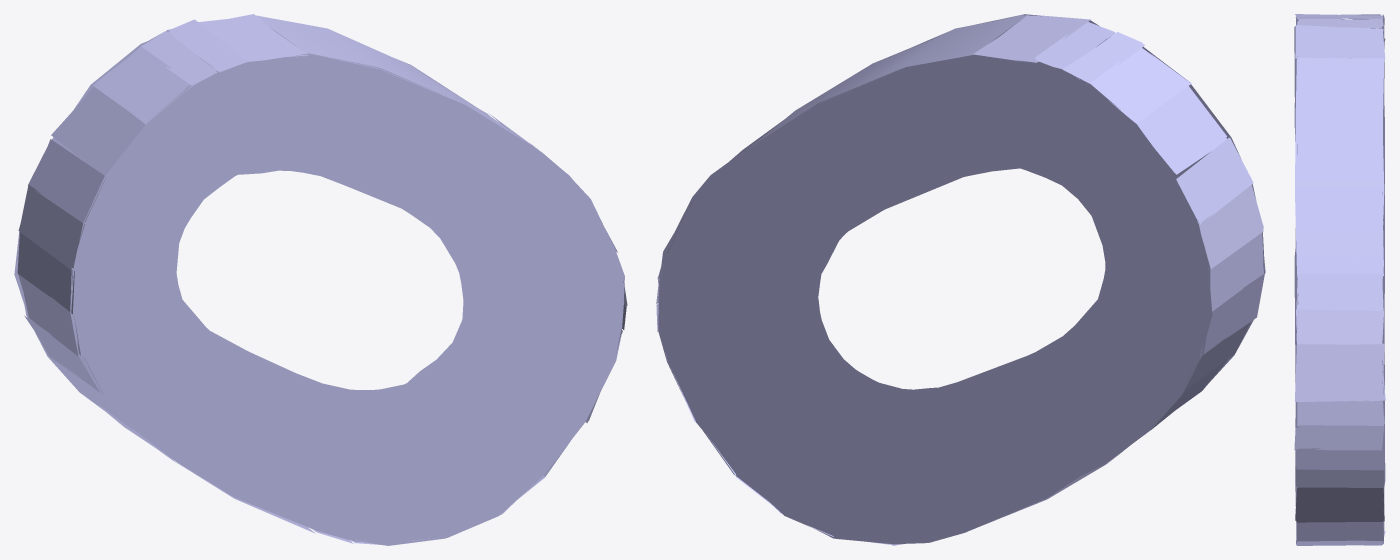
File: original_43.obj
3 renders of one model, left to right at view 1: azimuth 30°, elevation 25°; view 2: azimuth 150°, elevation 25°; view 3: azimuth 270°, elevation 25°, orthographic. The views are drawn at different scales.
Parts seen in each view (by area): view 1: #ID288; view 2: #ID288; view 3: #ID288.
Part boxes in pixels (bbox=[...]): #ID288: bbox=[14, 14, 627, 545]; #ID288: bbox=[656, 14, 1265, 545]; #ID288: bbox=[1294, 14, 1385, 545].
Size of the model in its own units: 0.0356 by 0.0323 by 0.00624.
